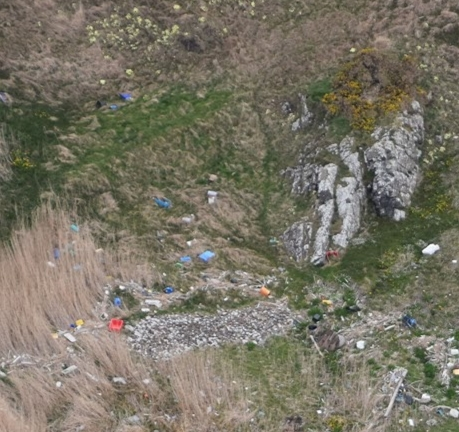scattered_barrel: (39, 315, 156, 403), (147, 167, 235, 273), (302, 287, 379, 363), (97, 279, 181, 337), (39, 215, 107, 275), (399, 365, 459, 430), (91, 86, 137, 116)
tube: (383, 375, 407, 416)
white_in_green: (408, 224, 456, 273), (385, 296, 435, 340), (241, 267, 288, 313), (312, 235, 358, 281)
